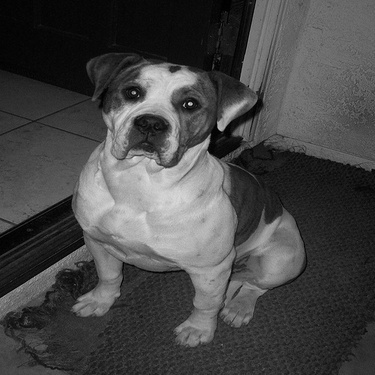dog: (64, 43, 309, 356)
